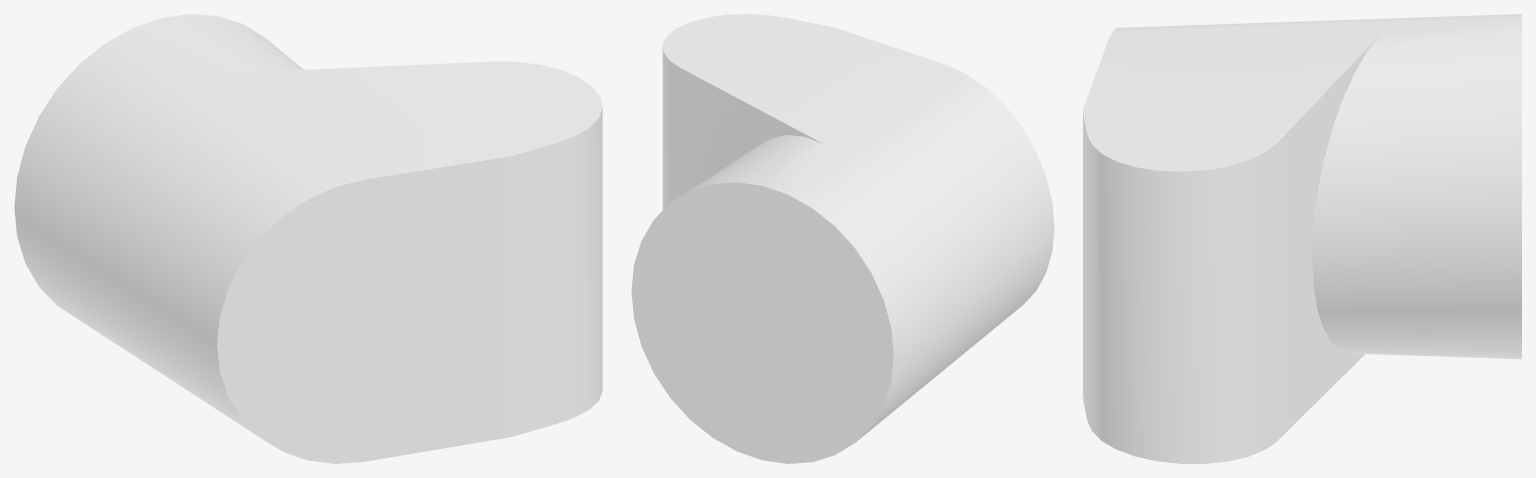
File: link_head_pan.3obj.obj.glb
The picture shows the model from 3 angles, left to right: view 1: azimuth 30°, elevation 25°; view 2: azimuth 150°, elevation 25°; view 3: azimuth 270°, elevation 25°; orthographic projection. The views are drawn at different scales.
Parts seen in each view (by area): view 1: link_head_pan.3obj.obj; view 2: link_head_pan.3obj.obj; view 3: link_head_pan.3obj.obj.
Part boxes in pixels (left/top/right/bottom): link_head_pan.3obj.obj: left=14, top=14, right=602, bottom=463; link_head_pan.3obj.obj: left=631, top=14, right=1054, bottom=463; link_head_pan.3obj.obj: left=1083, top=14, right=1521, bottom=463.
Bounding box in the file's own units: 0.1635 × 0.117 × 0.1484.
Materials: 1 (1 with a texture image).
